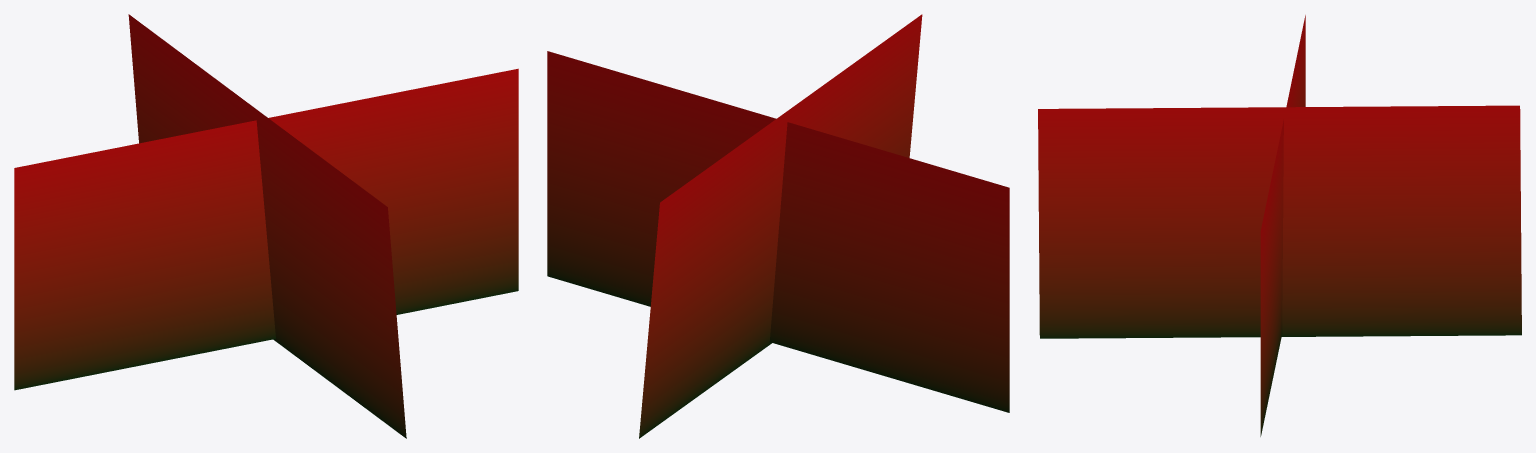
File: PlantTestLOD0.fbx
3 renders of one model, left to right at view 1: azimuth 30°, elevation 25°; view 2: azimuth 150°, elevation 25°; view 3: azimuth 270°, elevation 25°, orthographic. The views are drawn at different scales.
Visible parts, largest first — view 1: S_Tropical_Palm_rkqjj_Var2_lod3_LOD2; view 2: S_Tropical_Palm_rkqjj_Var2_lod3_LOD2; view 3: S_Tropical_Palm_rkqjj_Var2_lod3_LOD2.
Boxes of the visible parts, x1,y1,x2,y2 form: S_Tropical_Palm_rkqjj_Var2_lod3_LOD2: (14, 14, 518, 438); S_Tropical_Palm_rkqjj_Var2_lod3_LOD2: (547, 14, 1009, 438); S_Tropical_Palm_rkqjj_Var2_lod3_LOD2: (1038, 15, 1521, 436).
Bounding box in the file's own units: 157 × 167 × 80.1.
